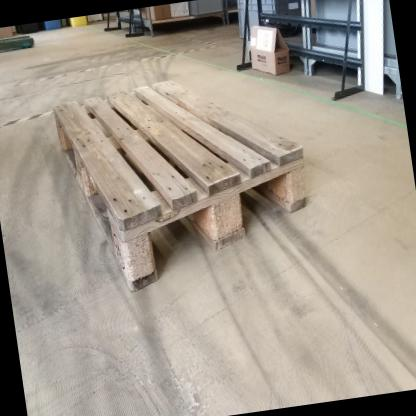BoxFace: (50, 75, 310, 300)
